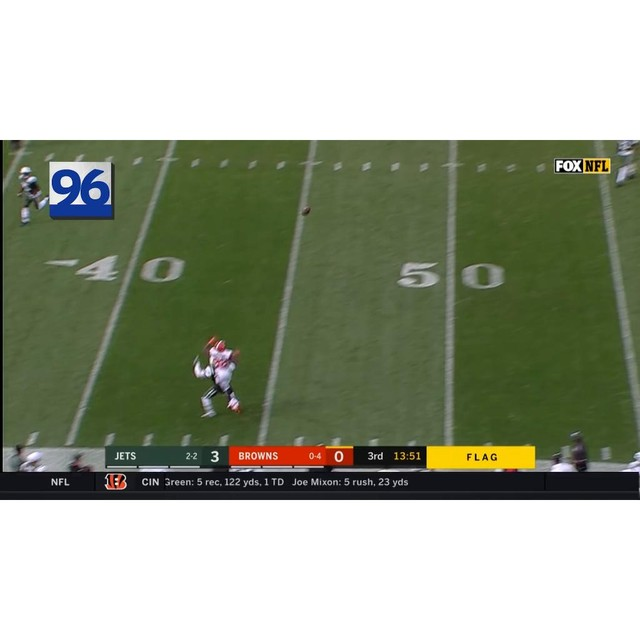american-football-player: (192, 336, 243, 418), (16, 166, 49, 225), (613, 140, 638, 188)
